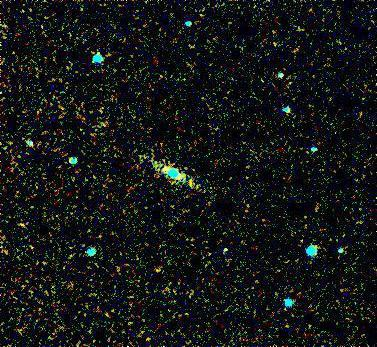star: (153, 155, 183, 185)
